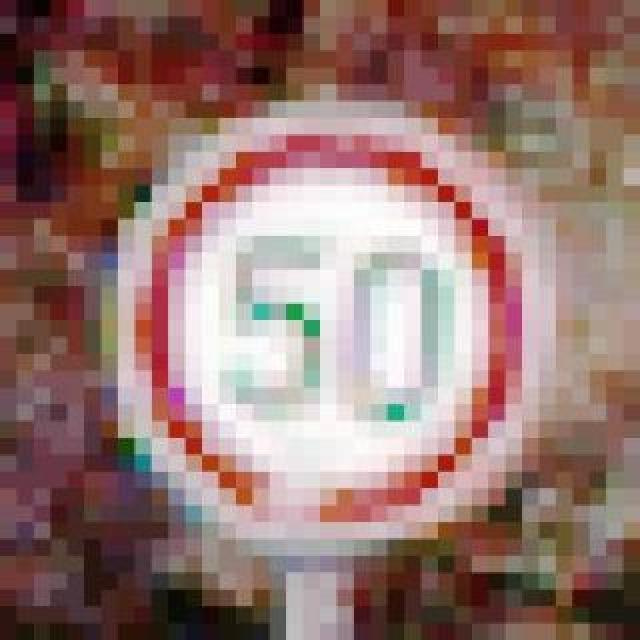50 kph: (84, 84, 522, 522)
